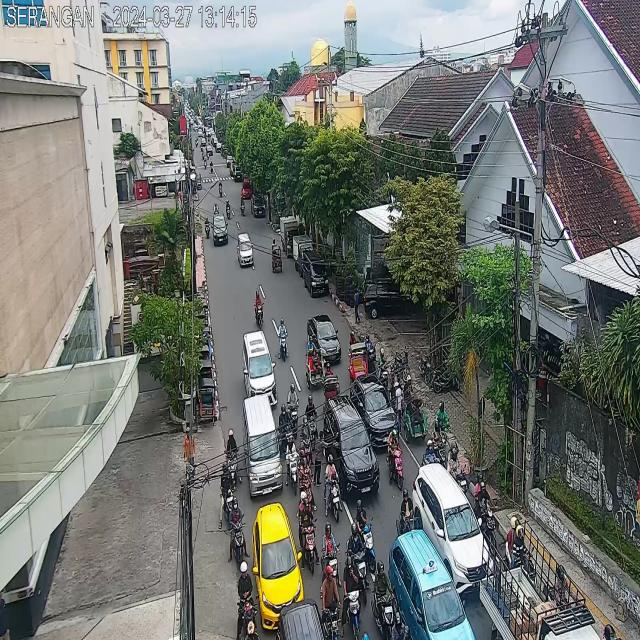car: (412, 462, 495, 599), (391, 528, 474, 640), (252, 504, 306, 632), (324, 397, 380, 498), (243, 395, 284, 496), (351, 376, 400, 449), (242, 332, 278, 408), (307, 313, 342, 365), (303, 252, 329, 298), (237, 233, 254, 266), (212, 213, 228, 246), (251, 194, 266, 218), (242, 182, 252, 198)
motorcycle: (504, 516, 538, 591), (472, 471, 497, 558), (298, 491, 320, 576), (353, 499, 377, 575), (346, 524, 368, 606), (372, 561, 395, 639), (236, 562, 258, 637), (343, 556, 361, 640), (320, 568, 340, 640), (323, 455, 343, 524), (321, 521, 341, 589), (228, 495, 247, 566), (448, 439, 468, 498), (298, 451, 315, 512), (387, 427, 404, 487), (220, 464, 236, 526), (285, 433, 299, 498), (397, 488, 416, 534), (225, 427, 239, 488), (431, 420, 446, 467), (435, 402, 449, 452), (306, 395, 318, 453), (286, 384, 298, 440), (300, 416, 313, 467), (278, 405, 292, 451), (363, 332, 377, 377), (276, 317, 290, 362), (378, 346, 389, 394), (421, 438, 437, 468), (254, 289, 264, 329), (203, 217, 211, 239), (224, 199, 232, 219), (240, 197, 245, 216), (218, 180, 223, 198)
truck: (481, 522, 602, 640), (293, 235, 314, 279), (280, 216, 300, 257)
